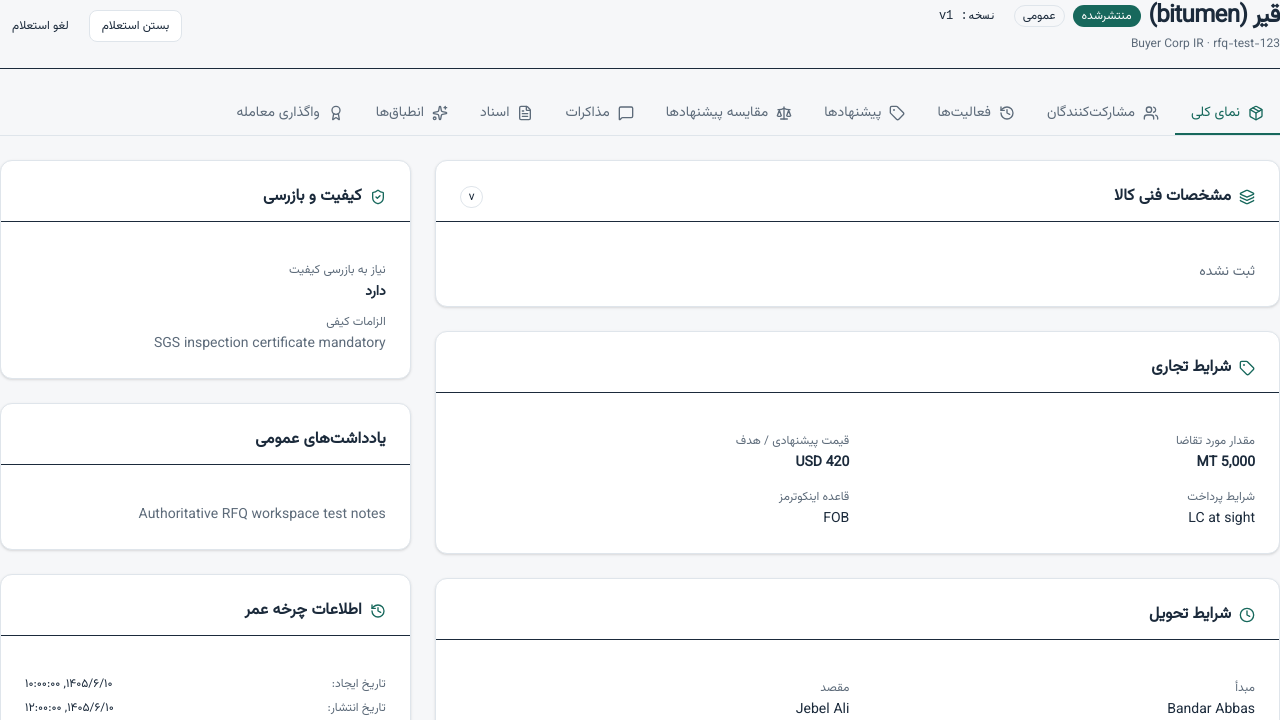
Test: T0507 - RFQ Workspace Component Suite › 2. displays participant management table for Buyer Owner and allows inviting more organizations
This screenshot has width=1280, height=720.
Click the button "مشارکت‌کنندگان".
click(1103, 114)  # box [1031,93,1175,135]
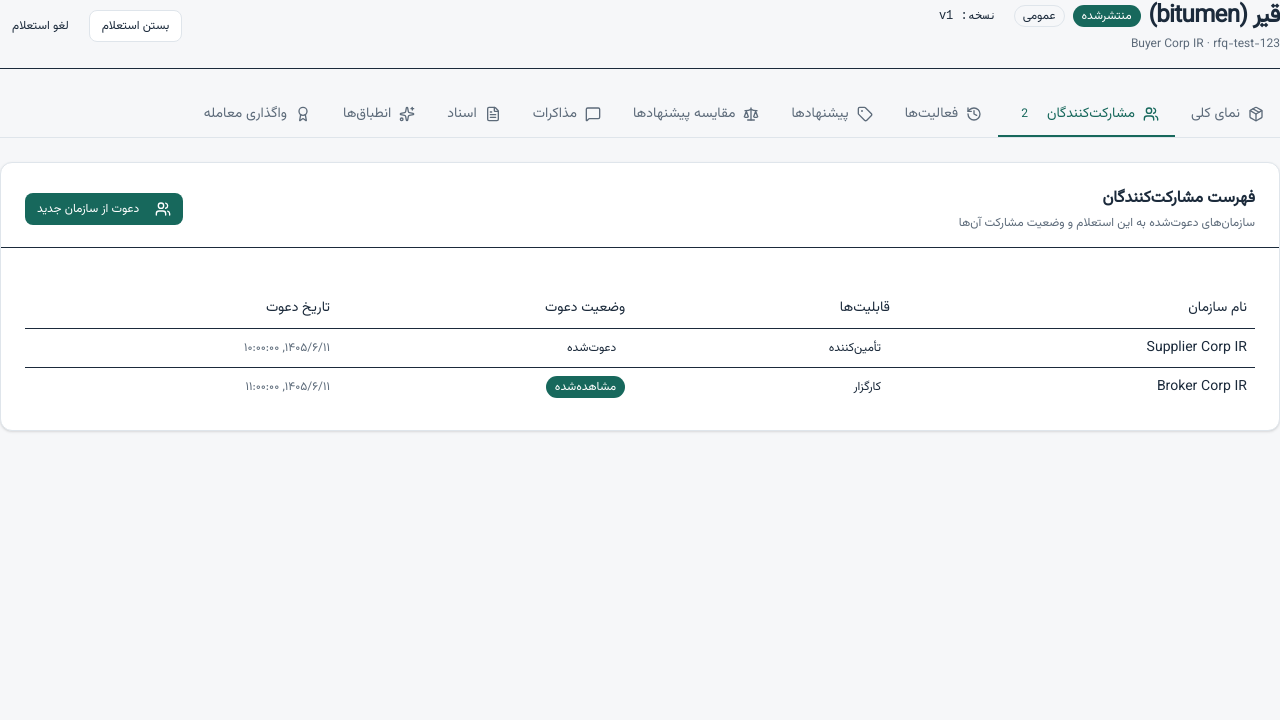
Now the text "Supplier Corp IR" is shown, box [898,328,1255,367]
Now the text "Broker Corp IR" is shown, box [898,367,1255,406]
Now the text "دعوت‌شده" is shown, box [567,338,616,356]
